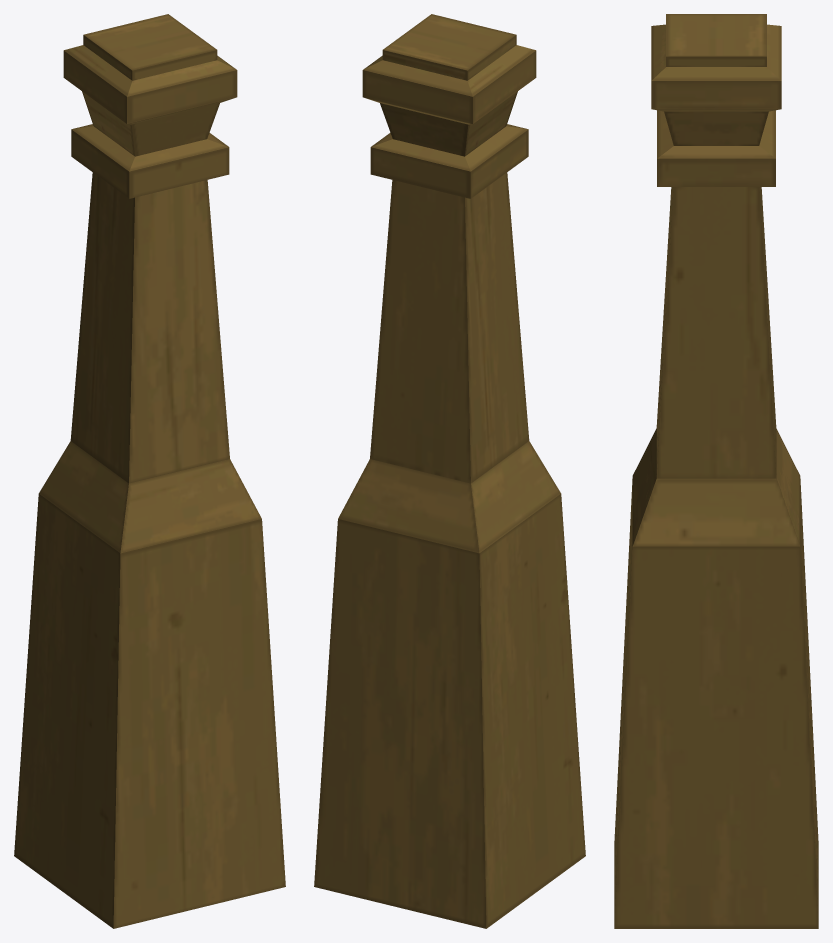
The model's file is SM_building_stairs_07.glb.
The picture shows the model from 3 angles, left to right: view 1: azimuth 30°, elevation 25°; view 2: azimuth 150°, elevation 25°; view 3: azimuth 270°, elevation 25°; orthographic projection. The views are drawn at different scales.
Visible parts, largest first — view 1: SM_building_stairs_07; view 2: SM_building_stairs_07; view 3: SM_building_stairs_07.
Part boxes in pixels (x1,y1,x2,y2): SM_building_stairs_07: (14,14,285,928); SM_building_stairs_07: (314,14,585,928); SM_building_stairs_07: (614,14,818,928).
Size of the model in its own units: 0.4 by 1.84 by 0.4.
Materials: 1 (1 with a texture image).
